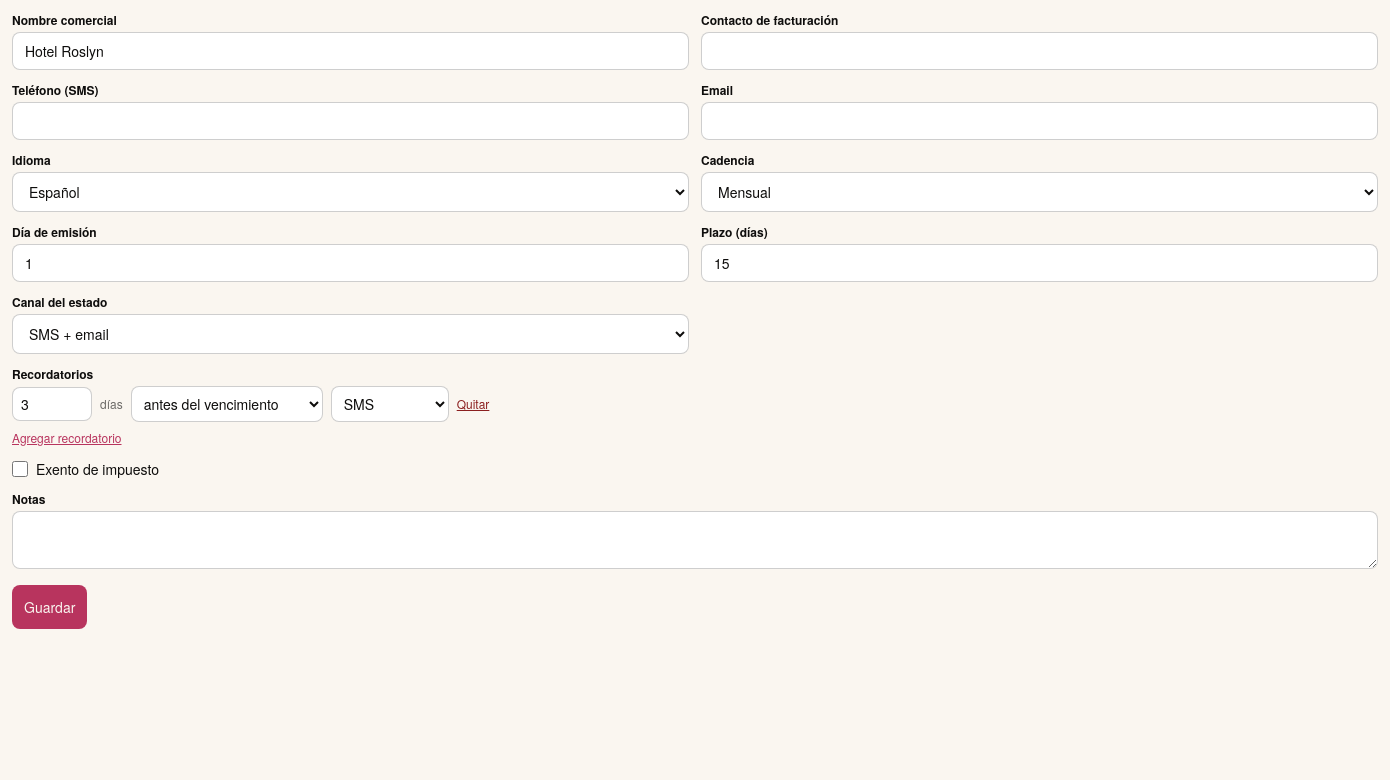
PlanEditor reminders › shows the clamped value on blur and when the direction changes
Replace the text in the number field named "Cantidad de días" with "100": (52, 404) [12,387,92,421]
Leave the number field named "Cantidad de días", box [12,387,92,421]
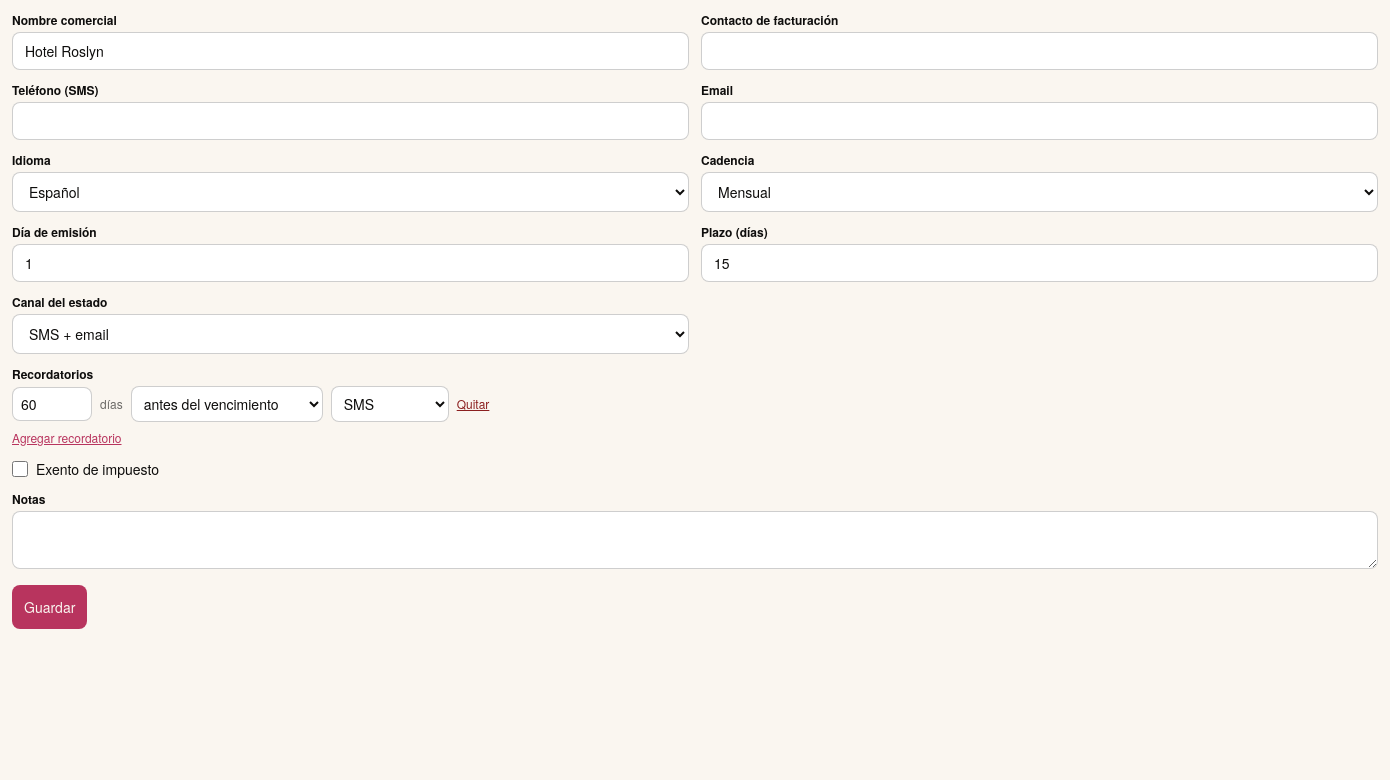
expect the number field named "Cantidad de días" holds "60": met
Clear the number field named "Cantidad de días": (52, 404) [12,387,92,421]
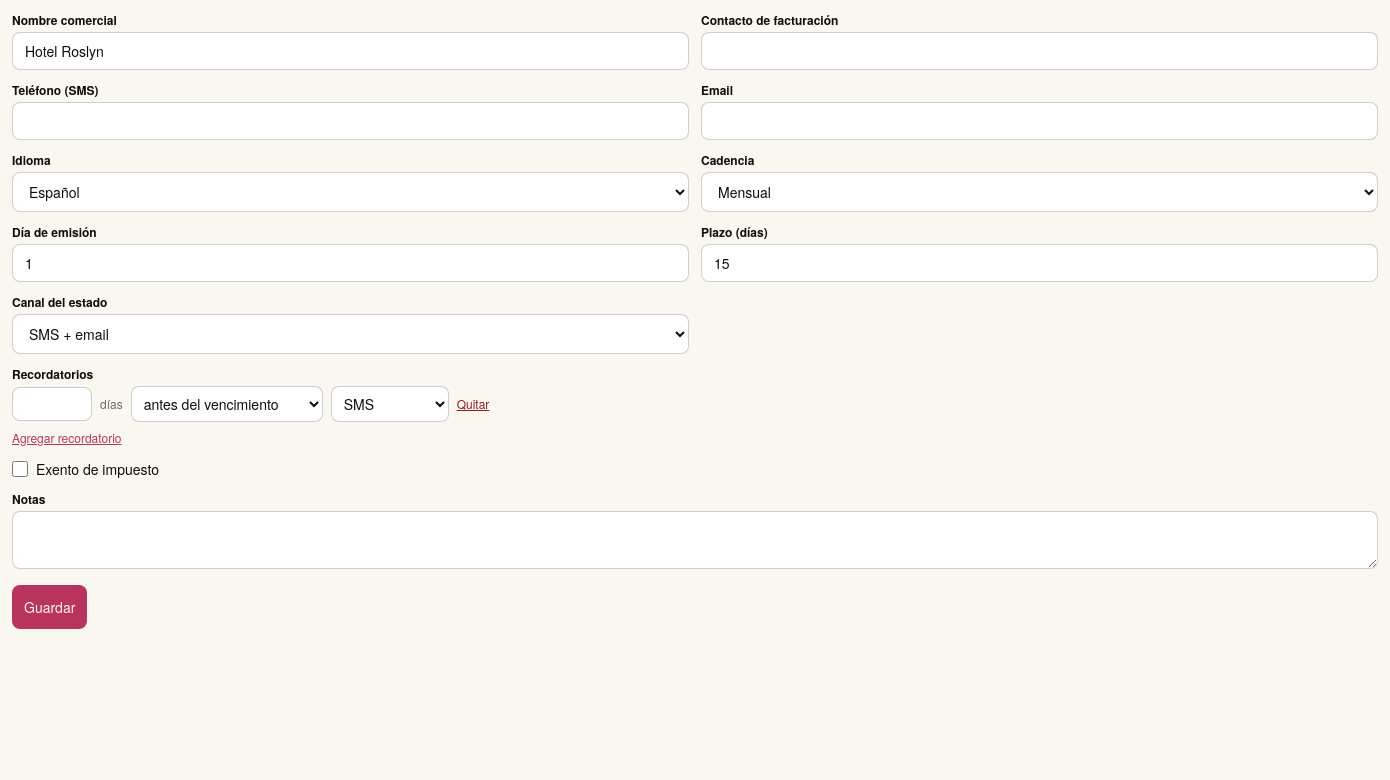
Leave the number field named "Cantidad de días", box [12,387,92,421]
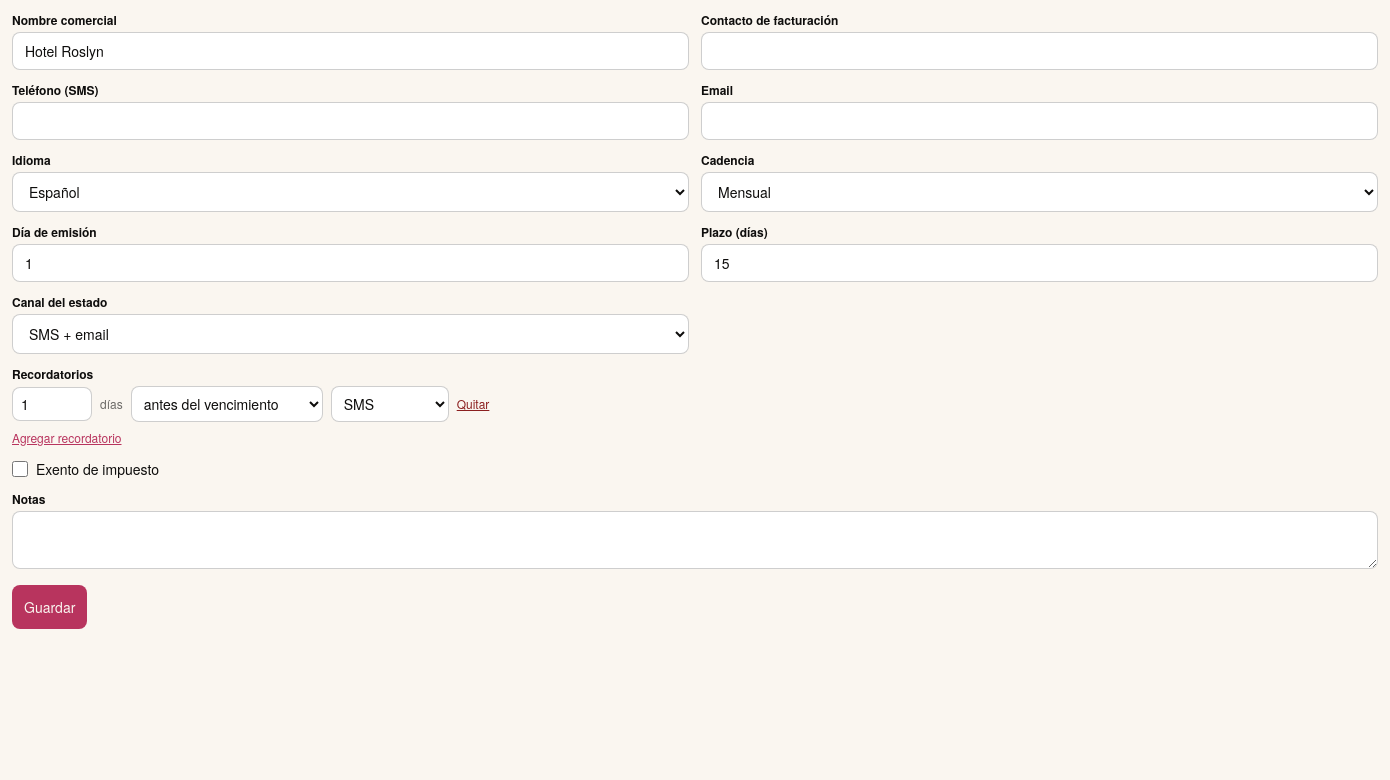
Select "después del vencimiento" in the dropdown named "Cuándo enviar el recordatorio": (227, 404) [131,386,323,422]
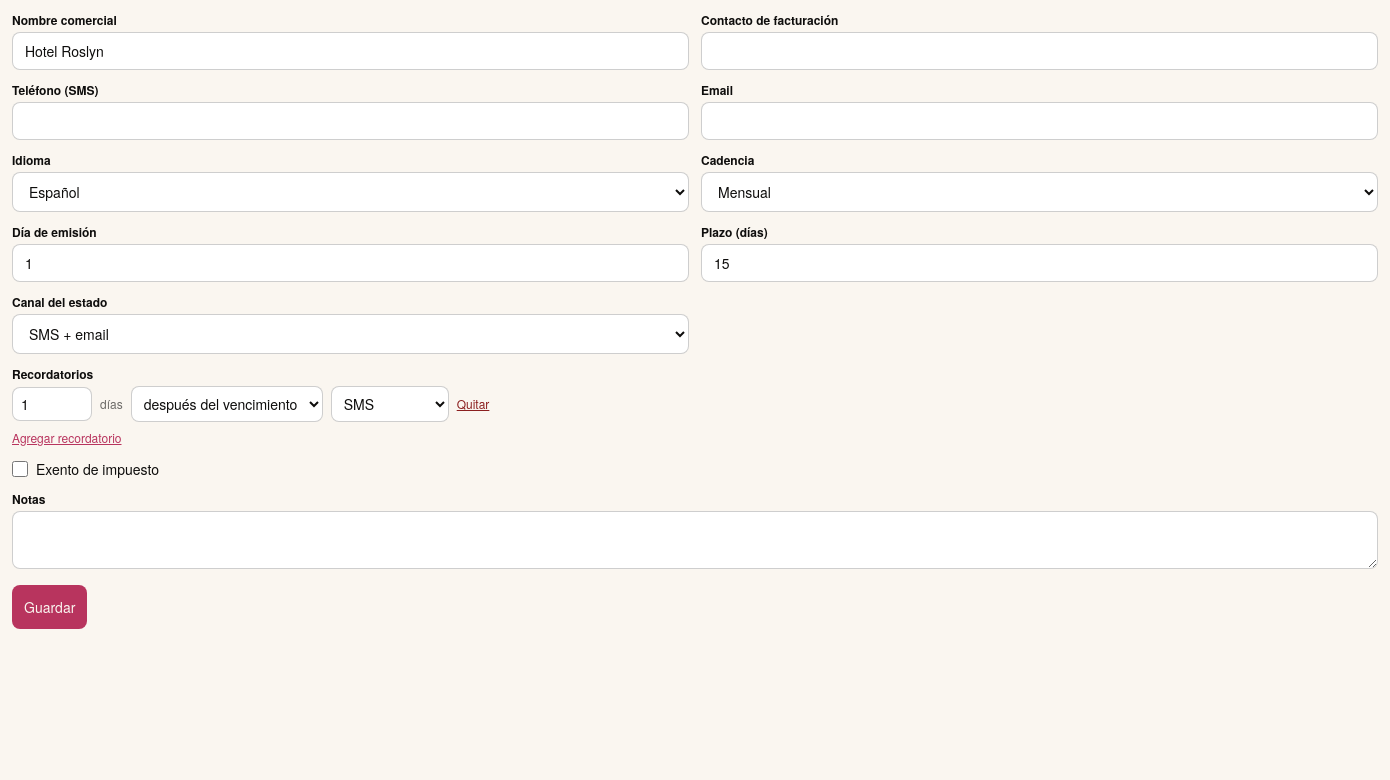
Replace the text in the number field named "Cantidad de días" with "100": (52, 404) [12,387,92,421]
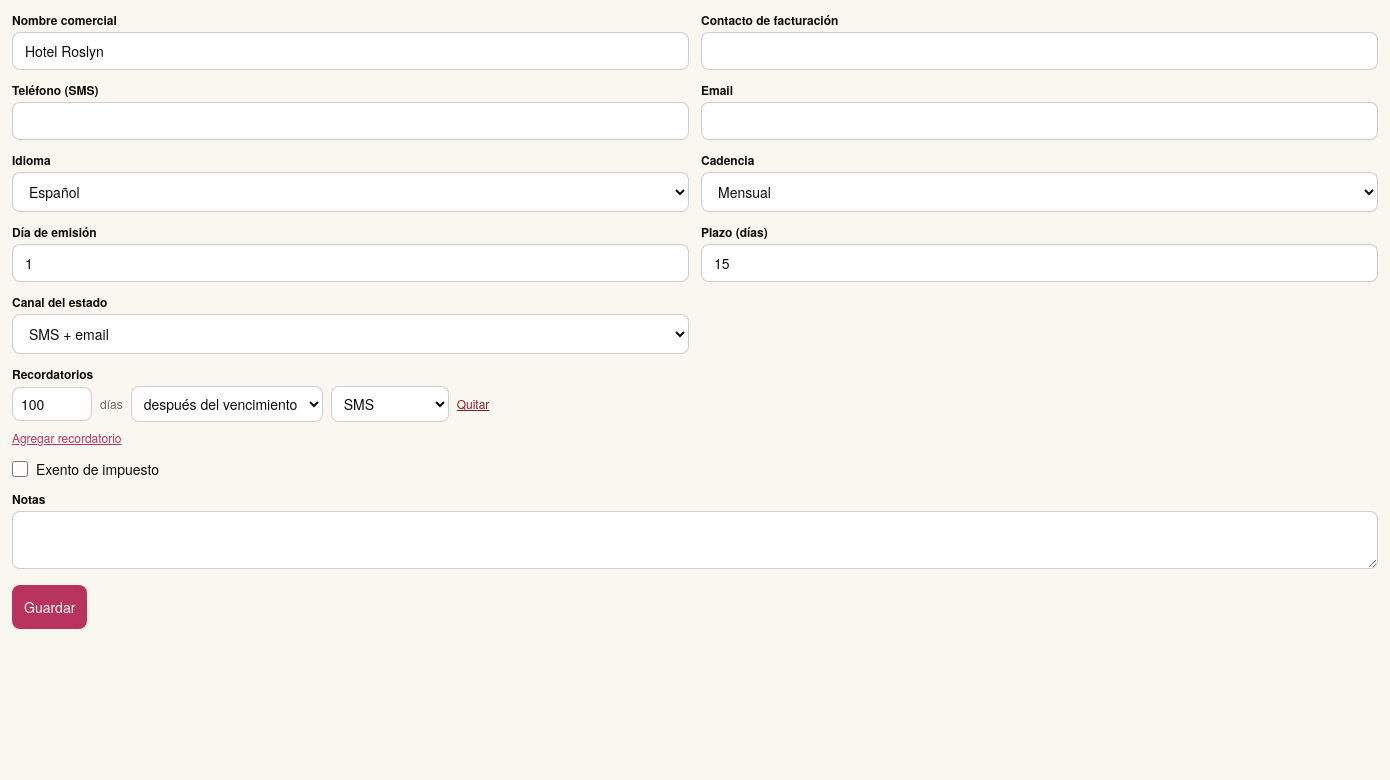
Select "antes del vencimiento" in the dropdown named "Cuándo enviar el recordatorio": (227, 404) [131,386,323,422]
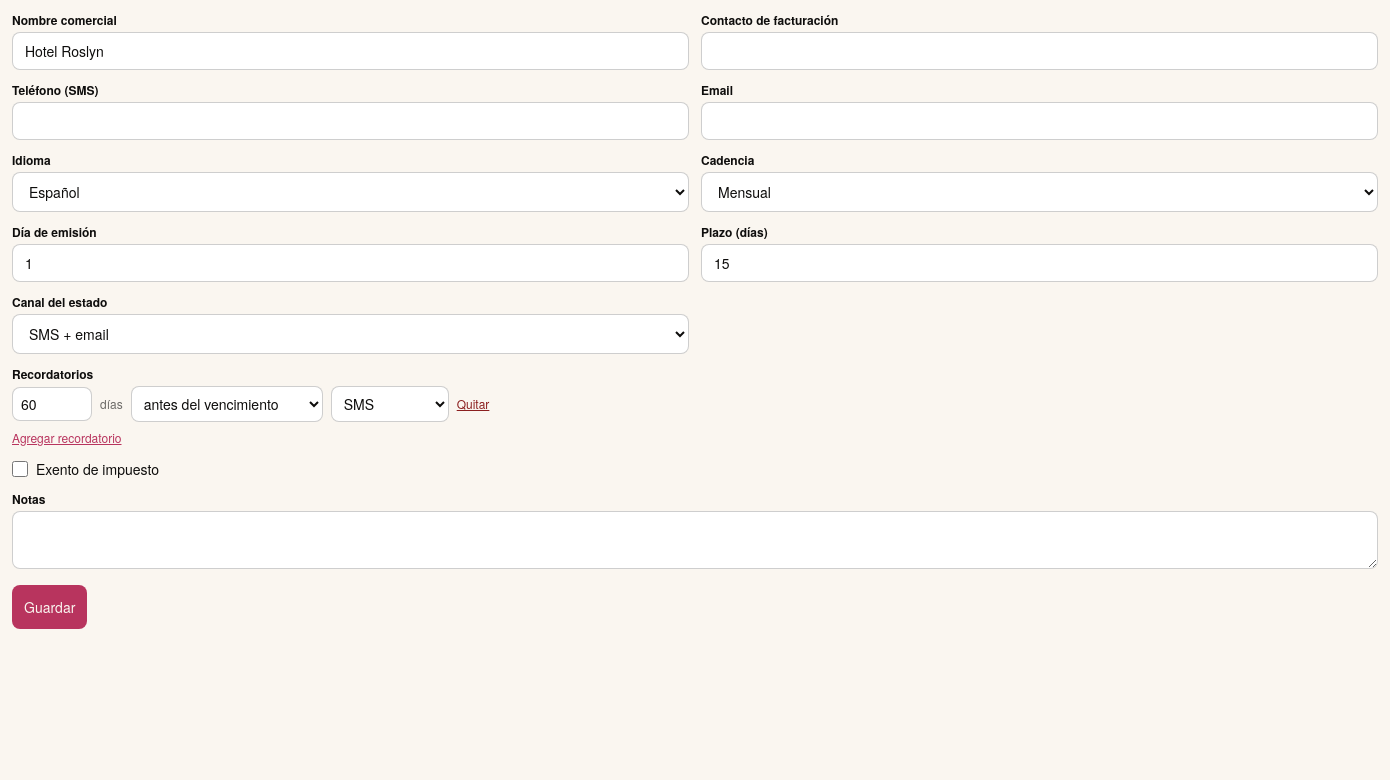
expect the number field named "Cantidad de días" holds "60": met, box [12,387,92,421]
